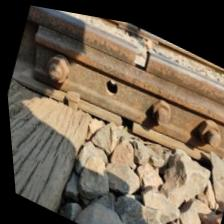person: (121, 34, 164, 79), (108, 104, 142, 138), (134, 21, 142, 29)
